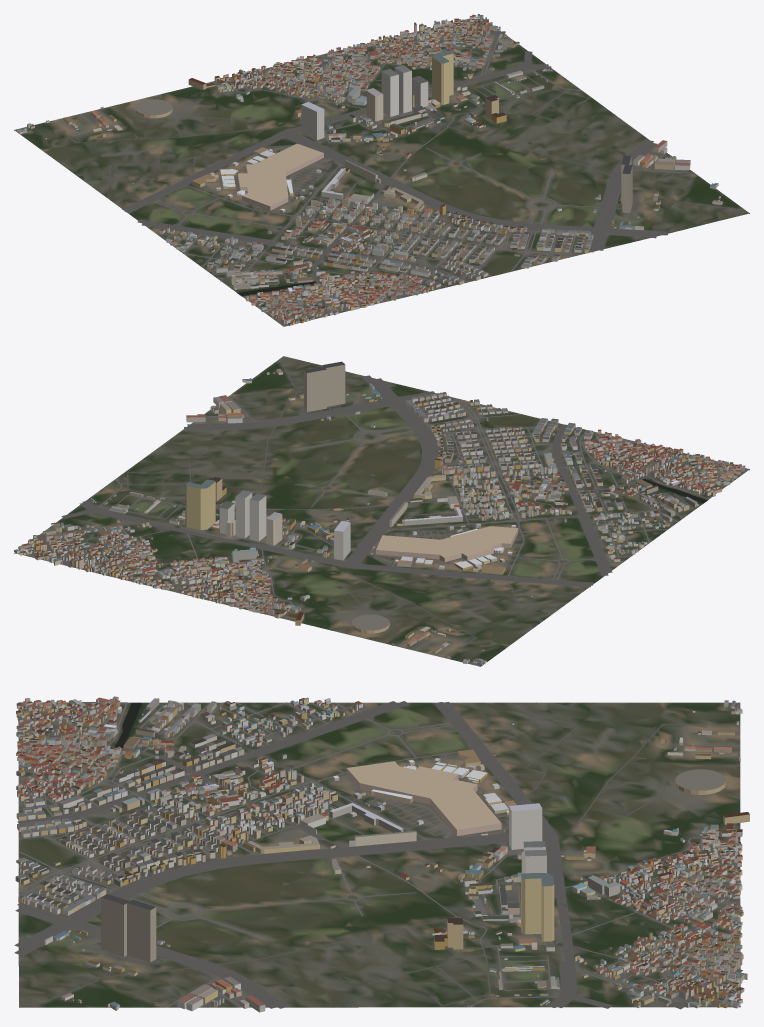
3 renders of one model, top to bottom at view 1: azimuth 30°, elevation 25°; view 2: azimuth 150°, elevation 25°; view 3: azimuth 270°, elevation 25°, orthographic. The views are drawn at different scales.
Visible parts, largest first — view 1: ground, buildings, roads; view 2: ground, buildings, roads; view 3: ground, buildings, roads.
Boxes of the visible parts, <box> form: ground: <box>14,16,749,326</box>; buildings: <box>16,14,722,325</box>; roads: <box>17,22,742,326</box>; ground: <box>14,356,749,666</box>; buildings: <box>14,361,745,665</box>; roads: <box>30,360,748,665</box>; ground: <box>18,702,740,1007</box>; buildings: <box>15,696,749,1012</box>; roads: <box>14,701,742,1009</box>.
Bounding box in the file's own units: 1430 × 123 × 1430.
